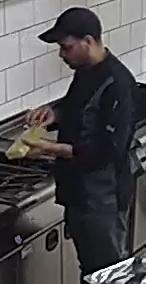no_apron: (54, 31, 131, 211)
